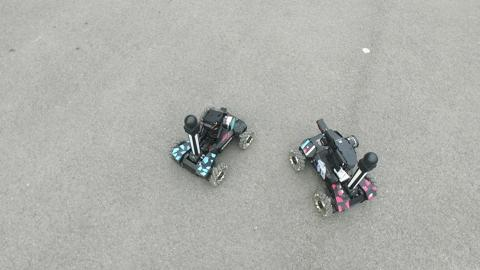chariot: (280, 113, 385, 223), (161, 96, 257, 194)
